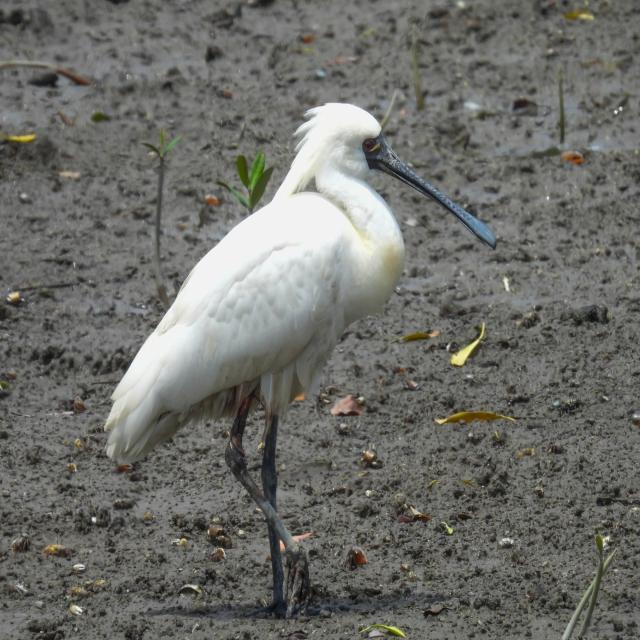Black-faced spoonbill: (105, 104, 495, 617)
